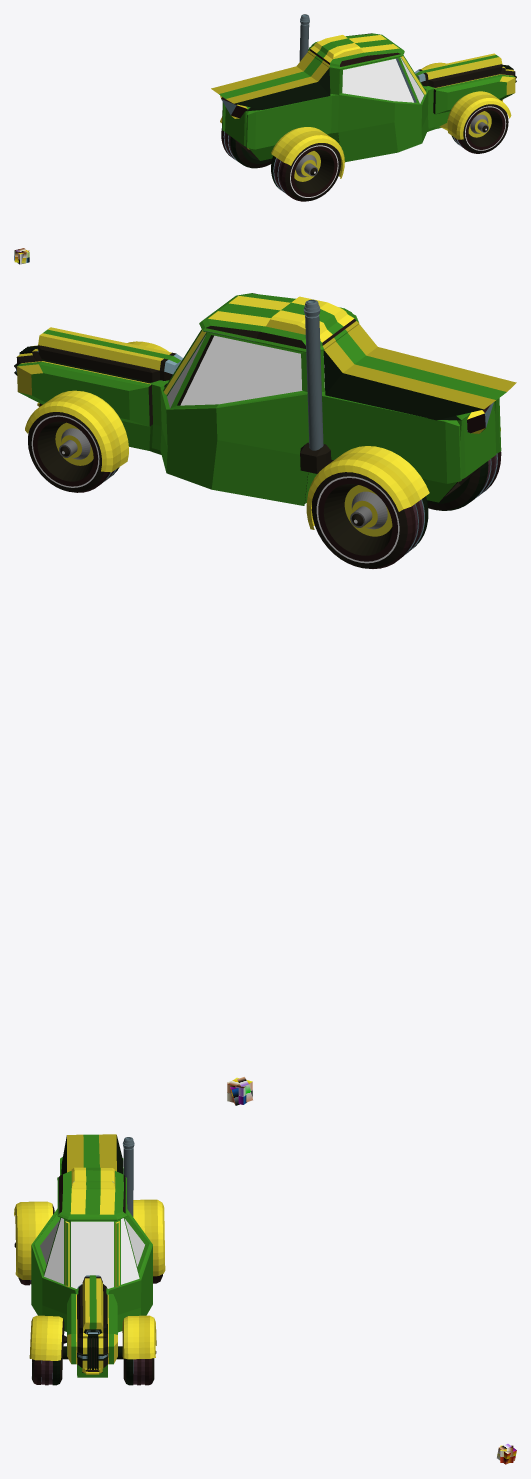
Rendered from tractor (3).fbx.
3 renders of one model, top to bottom at view 1: azimuth 30°, elevation 25°; view 2: azimuth 150°, elevation 25°; view 3: azimuth 270°, elevation 25°, orthographic. The views are drawn at different scales.
Parts seen in each view (by area): view 1: Cylinder.001; view 2: Cylinder.001; view 3: Cylinder.001.
Part boxes in pixels (left/top/right/bottom): Cylinder.001: left=14, top=14, right=516, bottom=264; Cylinder.001: left=14, top=293, right=516, bottom=1105; Cylinder.001: left=14, top=1134, right=516, bottom=1464.
Bounding box in the file's own units: 6546 × 6609 × 7712.
